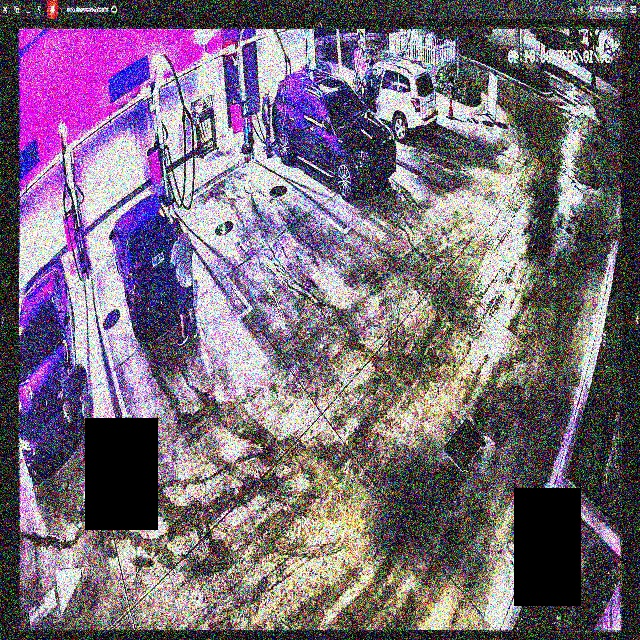Car: (272, 66, 397, 197), (110, 193, 189, 338), (344, 62, 436, 138)
